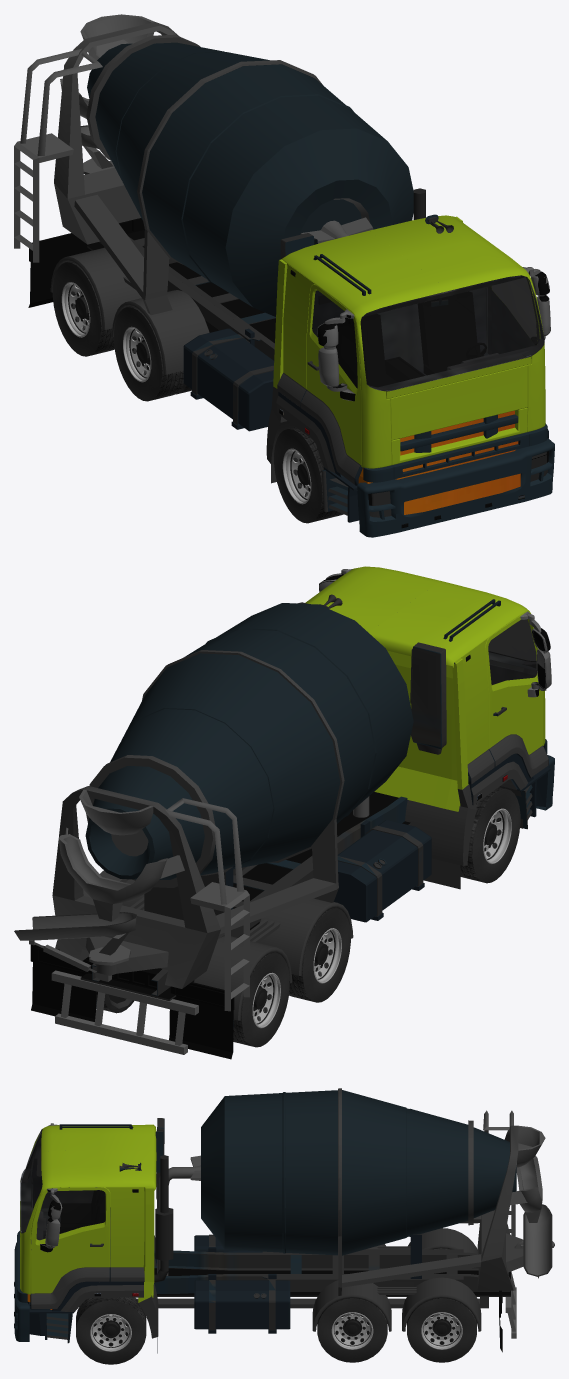
The model's file is Truck_2.FBX.
The picture shows the model from 3 angles, top to bottom: view 1: azimuth 30°, elevation 25°; view 2: azimuth 150°, elevation 25°; view 3: azimuth 270°, elevation 25°; orthographic projection. The views are drawn at different scales.
Visible parts, largest first — view 1: Body, Back, Wheel_BR 1, Wheel_FR, Wheel_BR 2; view 2: Back, Body, Wheel_FR, Wheel_BR 1, Wheel_BR 2; view 3: Back, Body, Wheel_FL, Wheel_BL 1, Wheel_BL 2.
Part boxes in pixels (x1,y1,x2,y2): Body: (28,214,554,537); Back: (14,14,425,316); Wheel_BR 1: (114,306,191,401); Wheel_FR: (274,427,343,523); Wheel_BR 2: (52,261,114,356); Back: (14,602,413,1054); Body: (30,566,554,1059); Wheel_FR: (460,787,520,883); Wheel_BR 1: (289,908,350,1002); Wheel_BR 2: (233,952,289,1047); Back: (154,1088,554,1338); Body: (14,1118,510,1353); Wheel_FL: (76,1297,146,1364); Wheel_BL 1: (317,1298,387,1362); Wheel_BL 2: (407,1298,476,1362).
Bounding box in the file's own units: 81.38 × 108 × 228.
